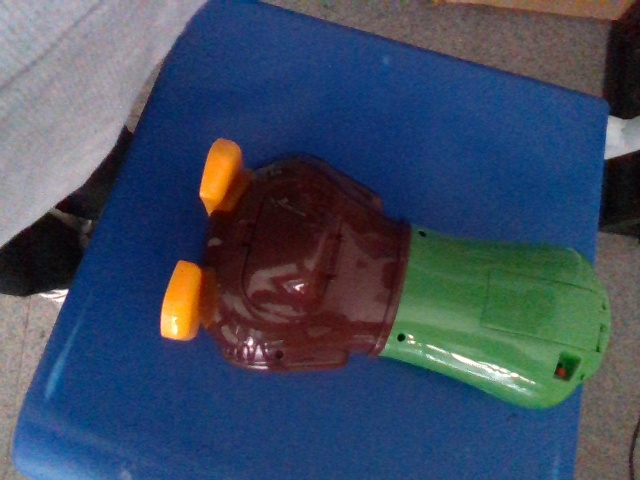screw hole: (274, 350, 283, 359), (397, 333, 405, 343), (419, 231, 427, 238), (602, 301, 607, 311)
toy: (159, 137, 612, 410)
